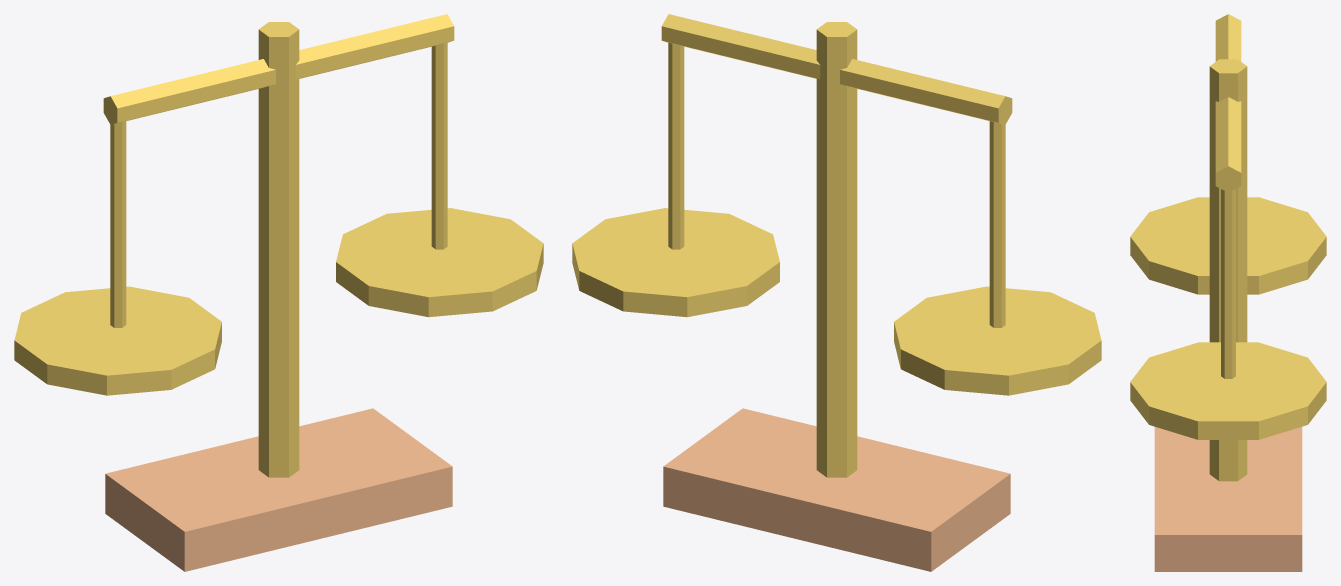
3 views of the same model, side by side, from view 1: azimuth 30°, elevation 25°; view 2: azimuth 150°, elevation 25°; view 3: azimuth 270°, elevation 25° (orthographic). The views are drawn at different scales.
Parts seen in each view (by area): view 1: Base, Pillar, Scale pan.001, Scale pan, Beam, Suspension.001, Suspension; view 2: Base, Pillar, Scale pan.001, Scale pan, Beam, Suspension.001, Suspension; view 3: Base, Scale pan.001, Scale pan, Pillar, Beam, Suspension.001.
Part boxes in pixels (left/top/right/bottom): Base: left=105, top=408, right=452, bottom=571; Pillar: left=258, top=22, right=299, bottom=477; Scale pan.001: left=336, top=208, right=543, bottom=317; Scale pan: left=14, top=286, right=221, bottom=395; Beam: left=103, top=14, right=454, bottom=124; Suspension.001: left=431, top=42, right=447, bottom=249; Suspension: left=110, top=121, right=126, bottom=327; Base: left=663, top=408, right=1010, bottom=571; Pillar: left=816, top=22, right=857, bottom=477; Scale pan.001: left=572, top=208, right=779, bottom=317; Scale pan: left=894, top=286, right=1101, bottom=395; Beam: left=661, top=14, right=1012, bottom=124; Suspension.001: left=668, top=42, right=684, bottom=249; Suspension: left=989, top=121, right=1005, bottom=327; Base: left=1154, top=427, right=1302, bottom=571; Scale pan.001: left=1130, top=342, right=1326, bottom=439; Scale pan: left=1130, top=197, right=1326, bottom=294; Pillar: left=1209, top=59, right=1247, bottom=481; Beam: left=1215, top=14, right=1241, bottom=192; Suspension.001: left=1221, top=189, right=1235, bottom=378.
Bounding box in the file's own units: 0.6483 × 0.6 × 0.24.
Materials: 1 (1 with a texture image).
